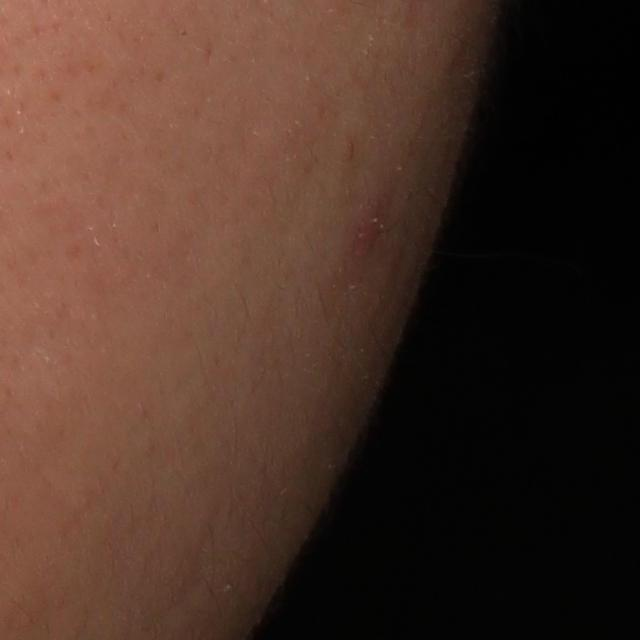papule: (350, 208, 387, 254)
